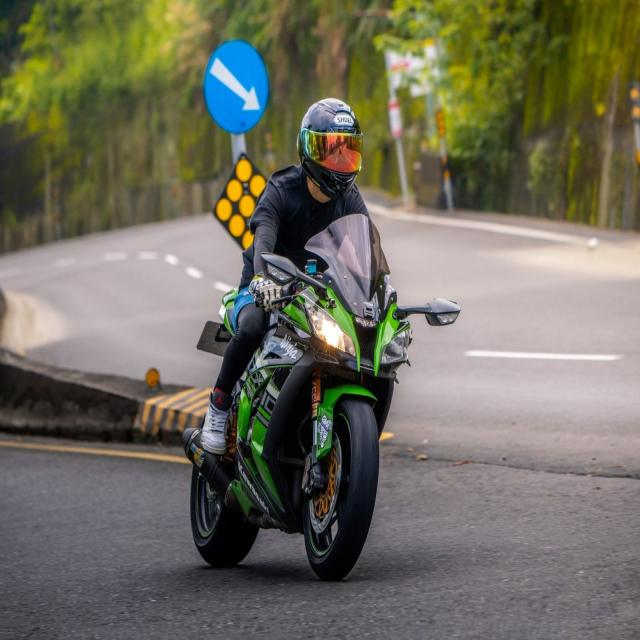Full-face-helmet: (296, 98, 363, 200)
